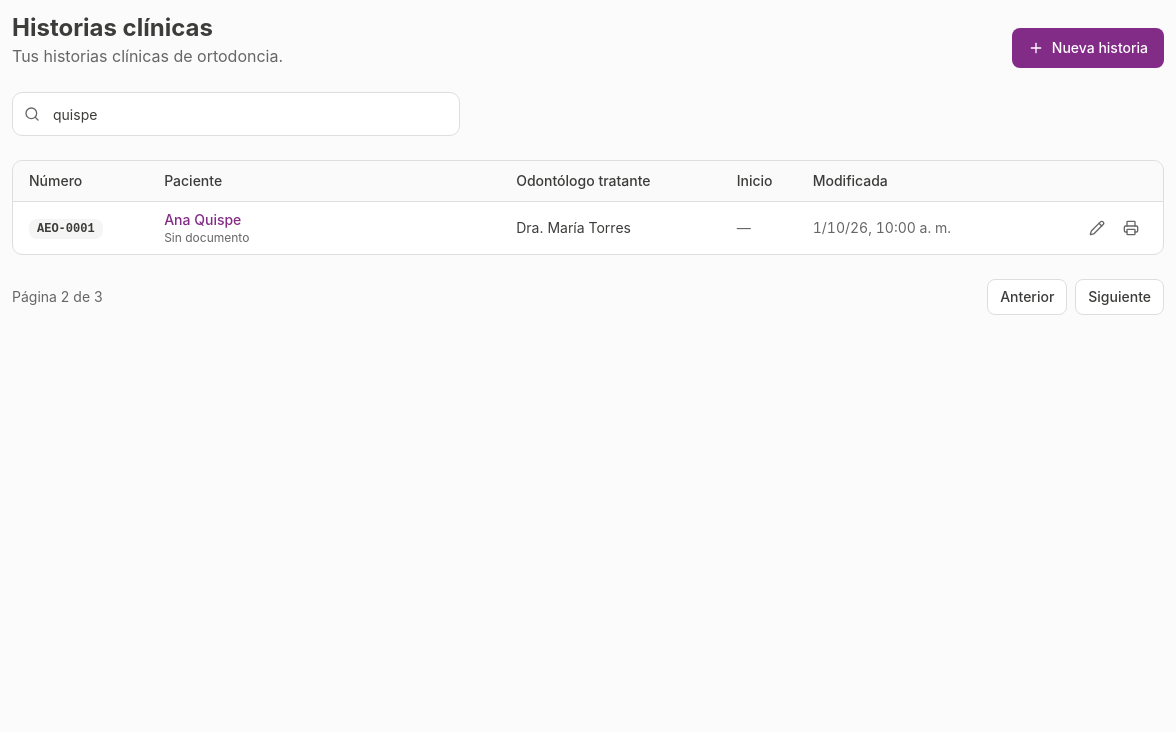
it: orthodontic-records — Volver al listado desde la historia › vuelve con la búsqueda y la página aunque se haya cambiado de paso
Click the link named "Editar historia AEO-0001" at point(1097, 228), box top-left (1089, 220), bottom-right (1105, 236)
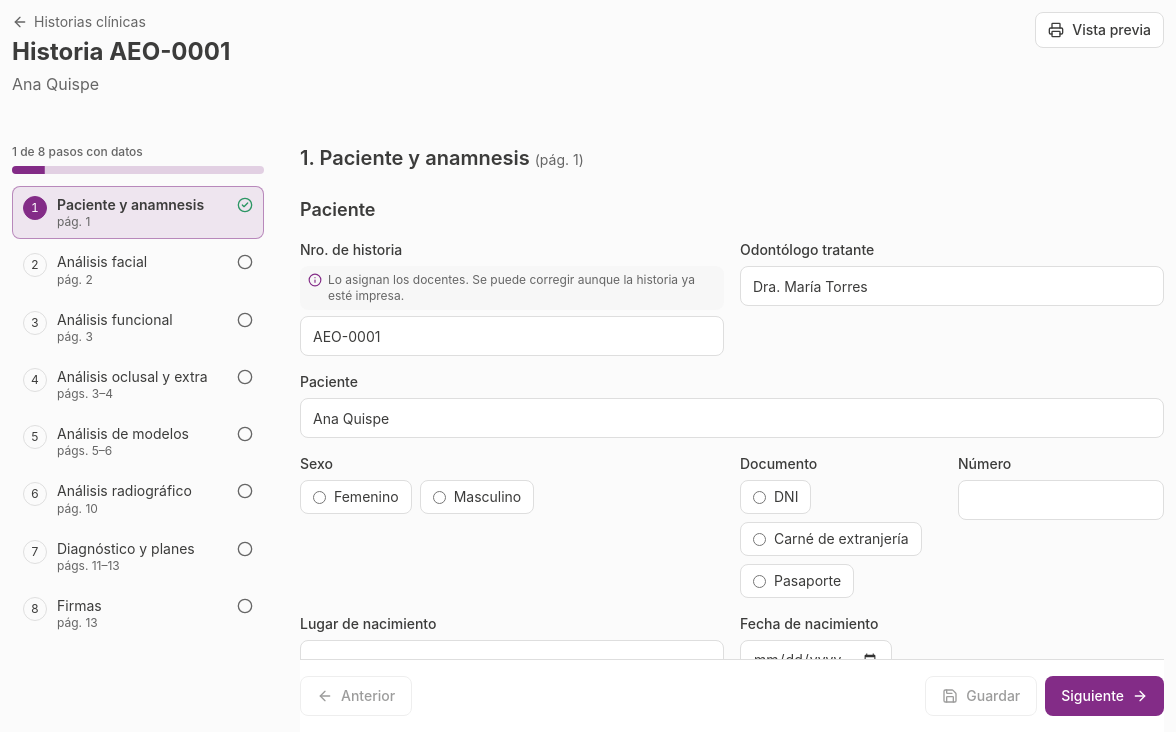
Click the button "Siguiente" at point(1105, 696), box top-left (1045, 676), bottom-right (1164, 716)
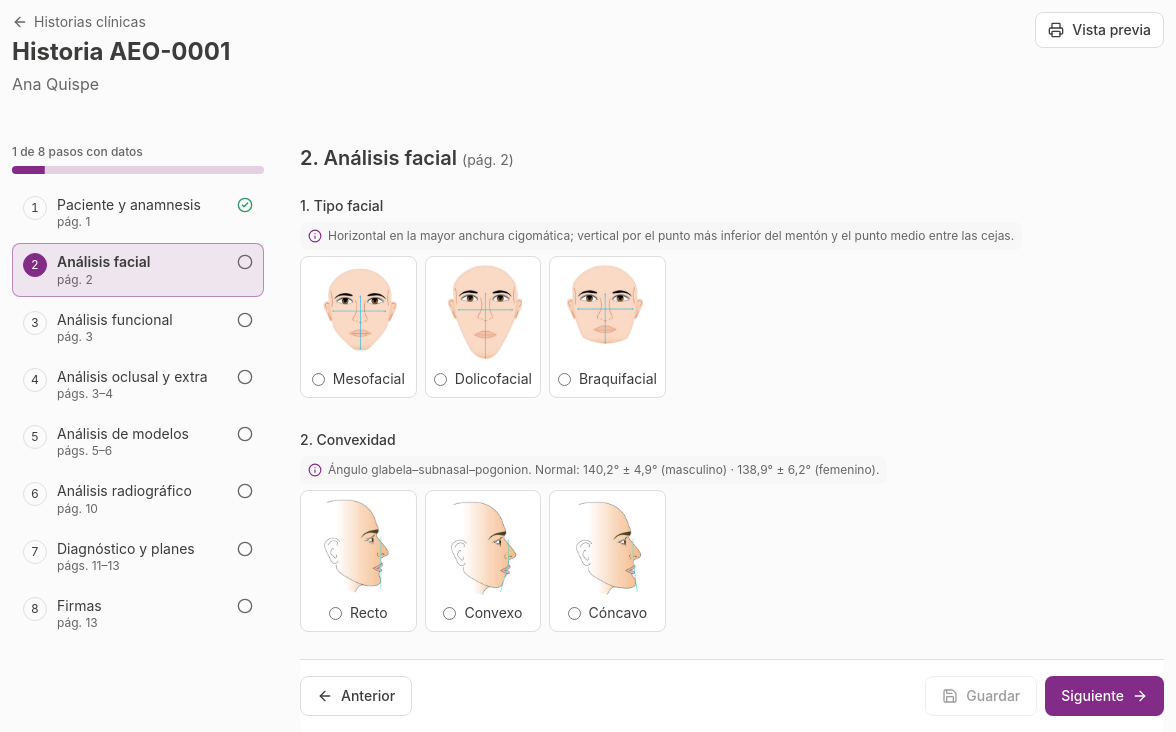
Click the link "Historias clínicas" at point(79, 22), box top-left (12, 12), bottom-right (146, 32)
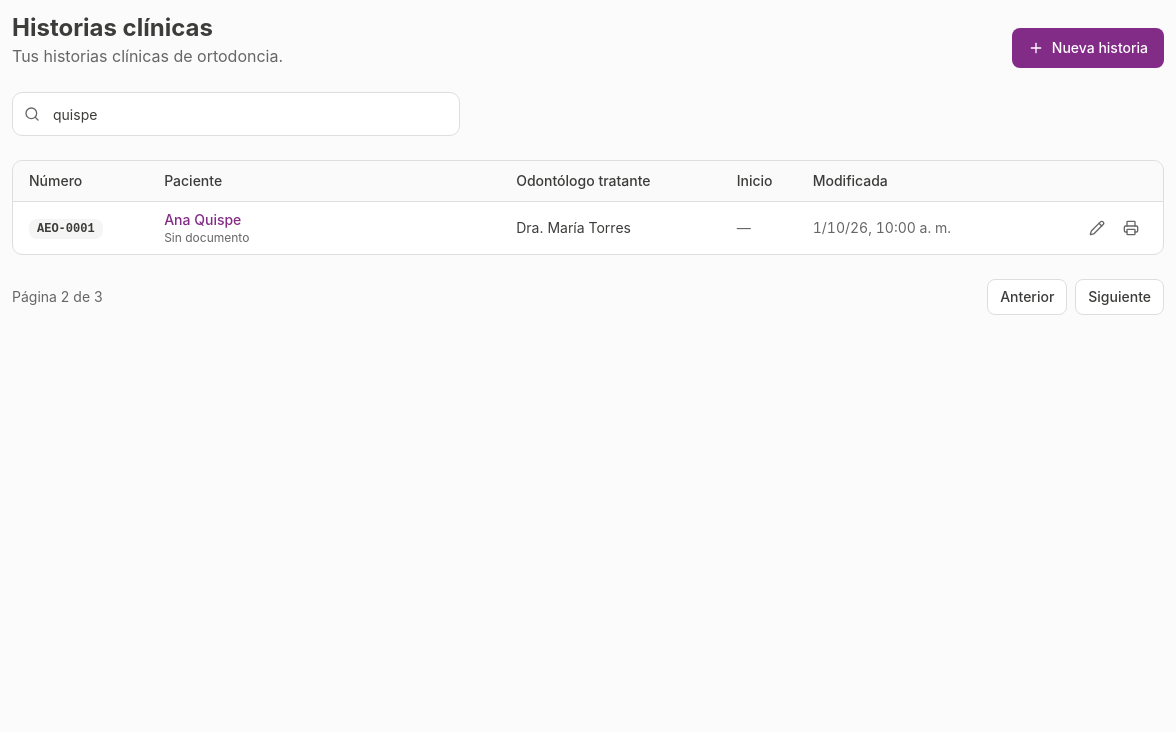
Check: the row "AEO-0001" is shown, box top-left (13, 201), bottom-right (1163, 254)
